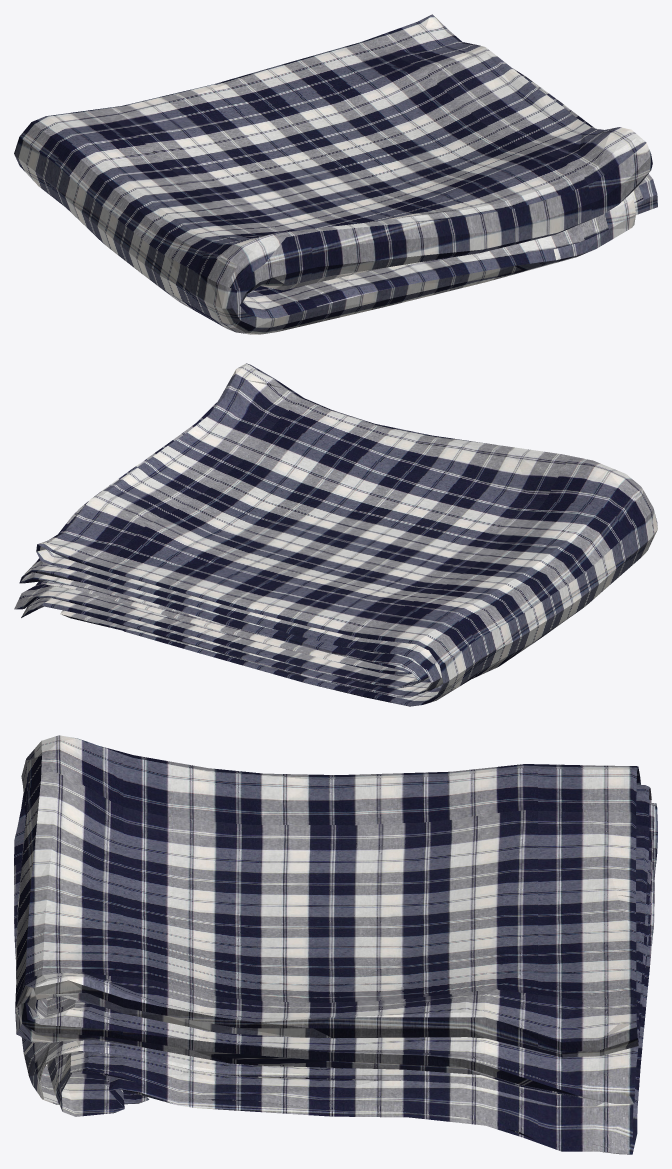
Rendered from Folded clothes 4.FBX.
3 renders of one model, top to bottom at view 1: azimuth 30°, elevation 25°; view 2: azimuth 150°, elevation 25°; view 3: azimuth 270°, elevation 25°, orthographic. The views are drawn at different scales.
Visible parts, largest first — view 1: Folded clothes 4; view 2: Folded clothes 4; view 3: Folded clothes 4.
Boxes of the visible parts, box(x1,y1,x2,y2) form: Folded clothes 4: box(14, 14, 657, 334); Folded clothes 4: box(14, 363, 657, 706); Folded clothes 4: box(14, 735, 657, 1154).
Size of the model in its own units: 13.25 by 11.46 by 3.33.
